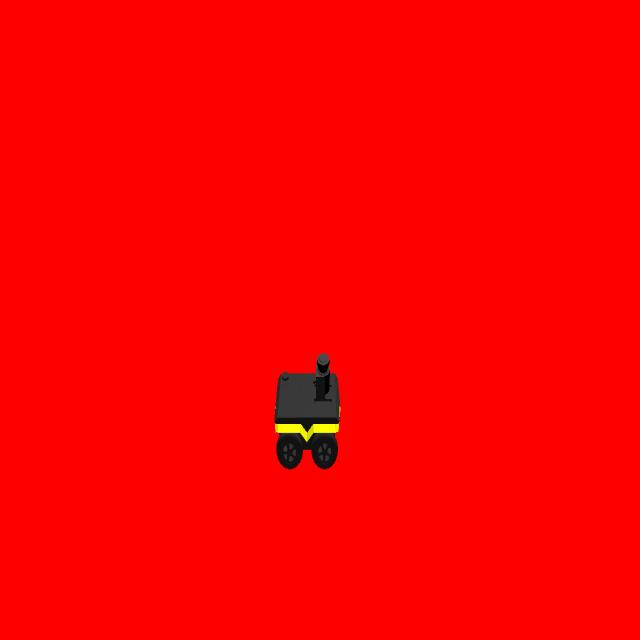jackal: (274, 351, 340, 473)
